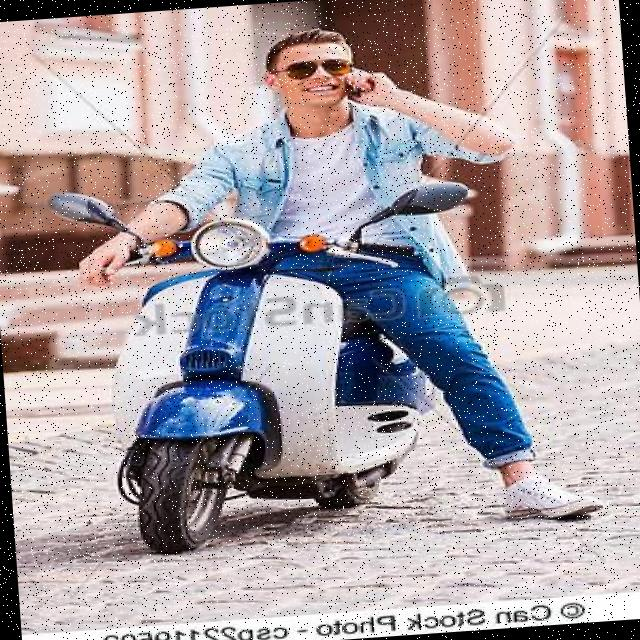Using mobile: (223, 5, 460, 244)
